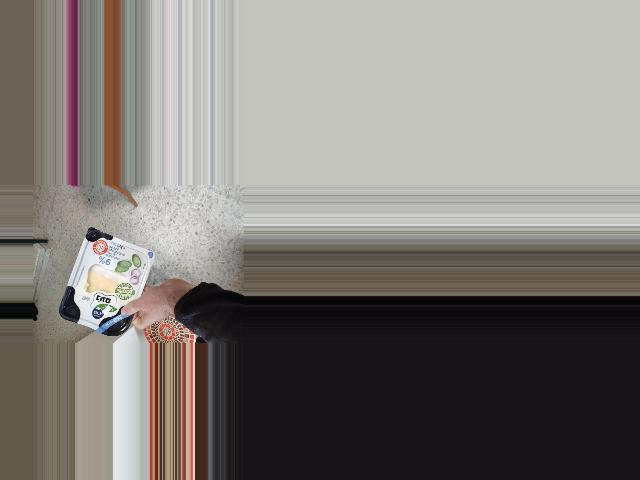cheese: (77, 238, 145, 324)
